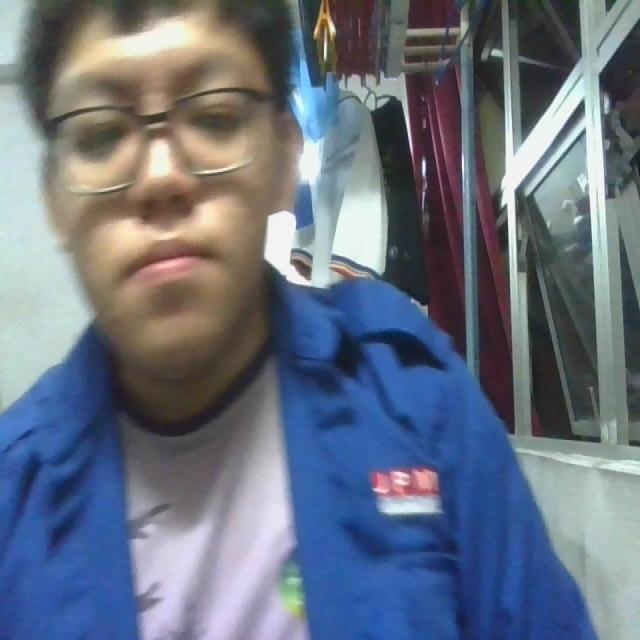person_with_labcoat: (0, 0, 598, 639)
